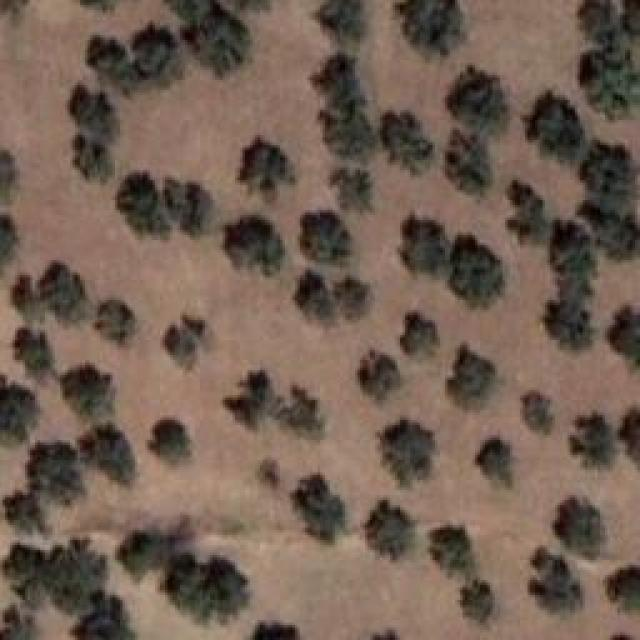Tree: (88, 23, 182, 95), (168, 0, 249, 76), (163, 555, 249, 625), (525, 93, 588, 163), (448, 63, 515, 127), (313, 95, 378, 158), (578, 52, 638, 118), (578, 140, 640, 202), (237, 137, 295, 202), (380, 420, 436, 486), (293, 475, 347, 543), (225, 215, 285, 276), (450, 235, 502, 305), (528, 548, 583, 614), (27, 443, 85, 505), (225, 370, 278, 437), (80, 423, 136, 485), (3, 543, 52, 613), (398, 0, 461, 54), (445, 127, 495, 195), (380, 113, 433, 175), (117, 530, 182, 580), (448, 345, 498, 410), (73, 590, 137, 640), (60, 363, 115, 420), (542, 293, 597, 350), (582, 203, 640, 256), (553, 498, 604, 558), (398, 210, 451, 267), (365, 500, 414, 561), (545, 220, 601, 273), (37, 263, 85, 324), (0, 378, 42, 444), (68, 127, 119, 181), (570, 414, 619, 468), (118, 175, 160, 237), (282, 388, 328, 444), (163, 315, 207, 370), (507, 180, 545, 243), (305, 210, 351, 262), (433, 528, 477, 579), (358, 350, 402, 400), (328, 270, 371, 320), (607, 304, 640, 367), (295, 272, 336, 322), (15, 328, 55, 378), (148, 420, 191, 465), (95, 300, 136, 346), (318, 0, 363, 41), (475, 437, 511, 487), (402, 313, 440, 356), (12, 278, 48, 323), (607, 565, 640, 612), (333, 172, 371, 212), (460, 580, 494, 623), (0, 150, 24, 203), (620, 408, 640, 468), (522, 393, 550, 435), (0, 213, 17, 266), (253, 623, 299, 640), (258, 460, 278, 488)
